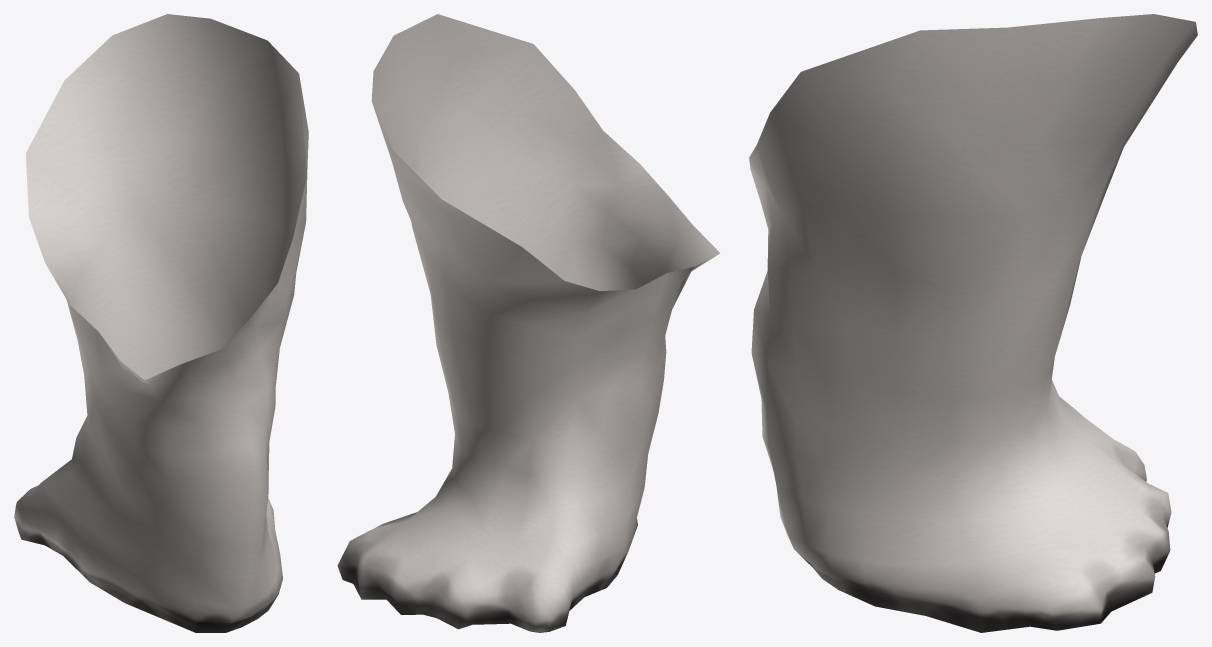
The model's file is rF_rightleg.obj.
The picture shows the model from 3 angles, left to right: view 1: azimuth 30°, elevation 25°; view 2: azimuth 150°, elevation 25°; view 3: azimuth 270°, elevation 25°; orthographic projection. The views are drawn at different scales.
Visible parts, largest first — view 1: Polar_Bear.002; view 2: Polar_Bear.002; view 3: Polar_Bear.002.
Part boxes in pixels (left/top/right/bottom): Polar_Bear.002: left=14, top=14, right=308, bottom=632; Polar_Bear.002: left=337, top=14, right=720, bottom=632; Polar_Bear.002: left=749, top=14, right=1197, bottom=632.
Size of the model in its own units: 0.4415 by 0.9033 by 0.6033.
Materials: 1 (1 with a texture image).
